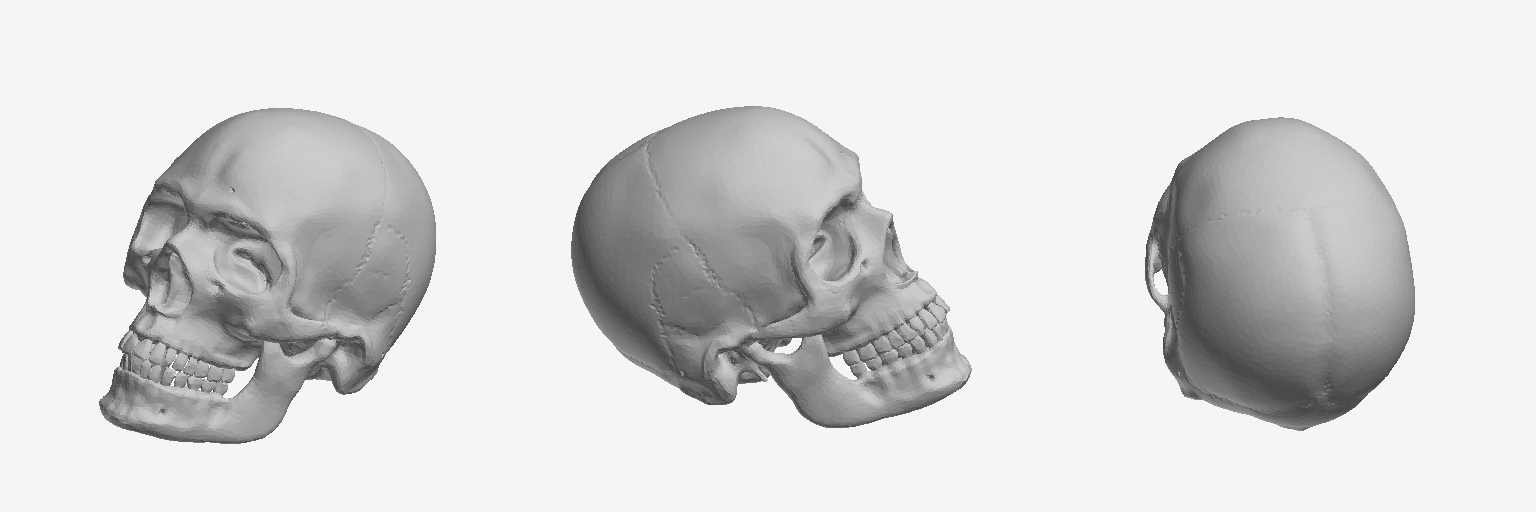
File: BlackSkull.obj
3 renders of one model, left to right at view 1: azimuth 30°, elevation 25°; view 2: azimuth 150°, elevation 25°; view 3: azimuth 270°, elevation 25°, orthographic.
Parts seen in each view (by area): view 1: Group5732_001_meshId0_name, Group5732_001.001_meshId1_name; view 2: Group5732_001_meshId0_name, Group5732_001.001_meshId1_name; view 3: Group5732_001_meshId0_name.
Boxes of the visible parts, x1,y1,x2,y2 form: Group5732_001_meshId0_name: [99, 108, 435, 443]; Group5732_001.001_meshId1_name: [118, 330, 215, 392]; Group5732_001_meshId0_name: [571, 106, 971, 427]; Group5732_001.001_meshId1_name: [896, 294, 944, 358]; Group5732_001_meshId0_name: [1145, 117, 1414, 430].
Size of the model in its own units: 1.97 by 1.46 by 1.33.